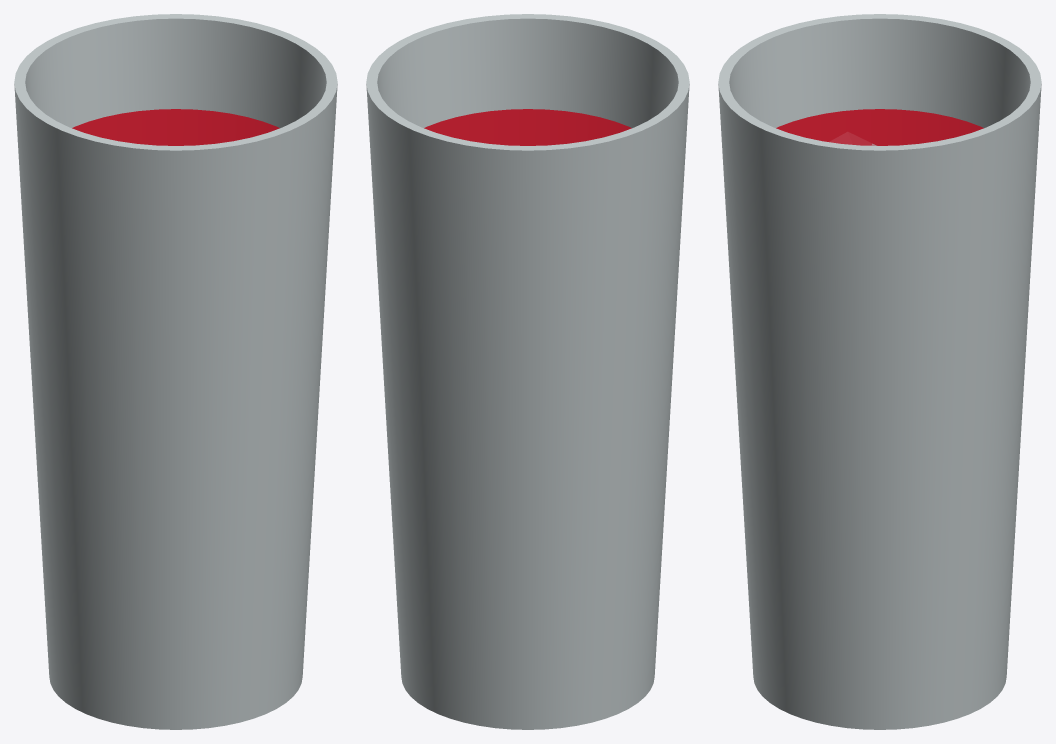
File: copo_suco-vermelho.glb
3 renders of one model, left to right at view 1: azimuth 30°, elevation 25°; view 2: azimuth 150°, elevation 25°; view 3: azimuth 270°, elevation 25°, orthographic.
Parts seen in each view (by area): view 1: copo_suco-vermelho; view 2: copo_suco-vermelho; view 3: copo_suco-vermelho.
Boxes of the visible parts, x1,y1,x2,y2 form: copo_suco-vermelho: (14, 14, 337, 729); copo_suco-vermelho: (366, 14, 689, 729); copo_suco-vermelho: (718, 14, 1041, 729).
Size of the model in its own units: 0.074 by 0.15 by 0.074.
